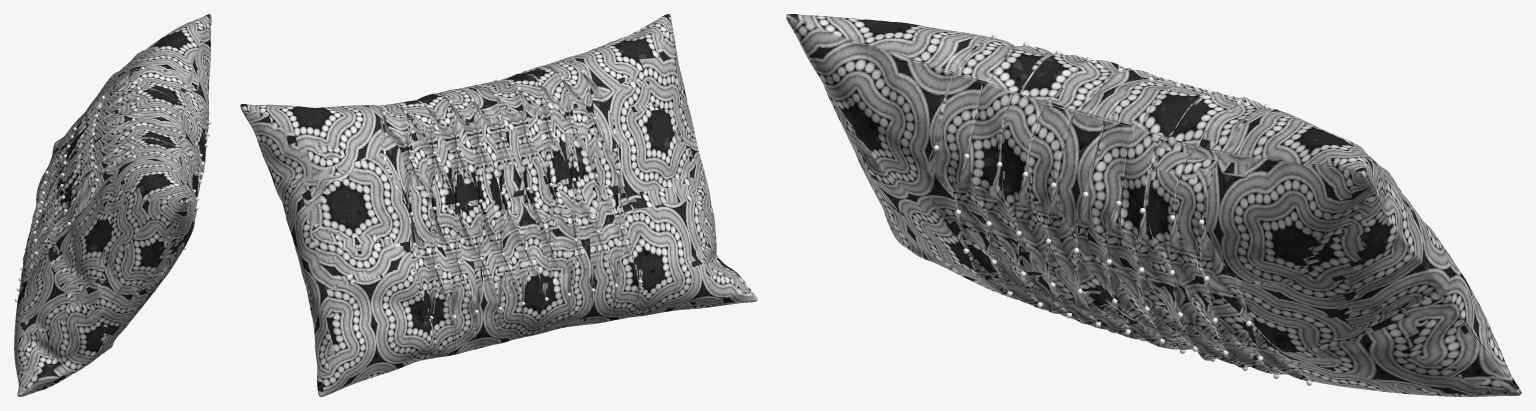
The picture shows the model from 3 angles, left to right: view 1: azimuth 30°, elevation 25°; view 2: azimuth 150°, elevation 25°; view 3: azimuth 270°, elevation 25°; orthographic projection. The views are drawn at different scales.
Parts seen in each view (by area): view 1: Item_Beehive pillow; view 2: Item_Beehive pillow; view 3: Item_Beehive pillow.
Boxes of the visible parts, x1,y1,x2,y2 form: Item_Beehive pillow: (14, 14, 211, 396); Item_Beehive pillow: (240, 14, 757, 396); Item_Beehive pillow: (786, 14, 1521, 396).
Bounding box in the file's own units: 0.4995 × 0.2924 × 0.6063.
Materials: 2 (1 with a texture image).
